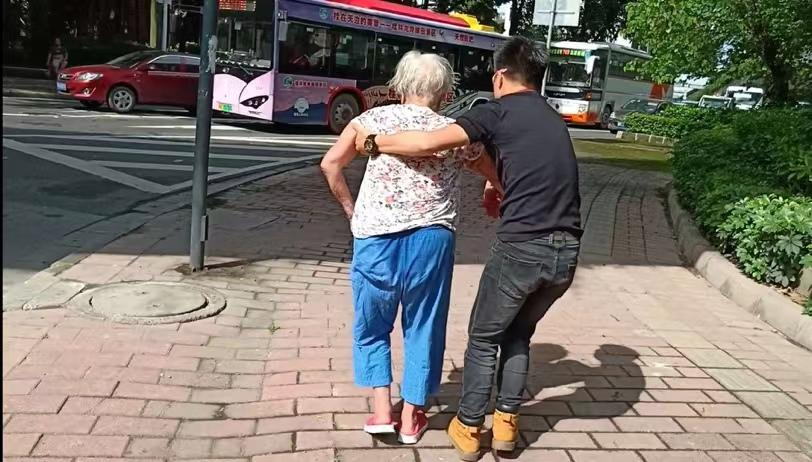bending: (452, 34, 588, 458)
up: (317, 45, 462, 453)
